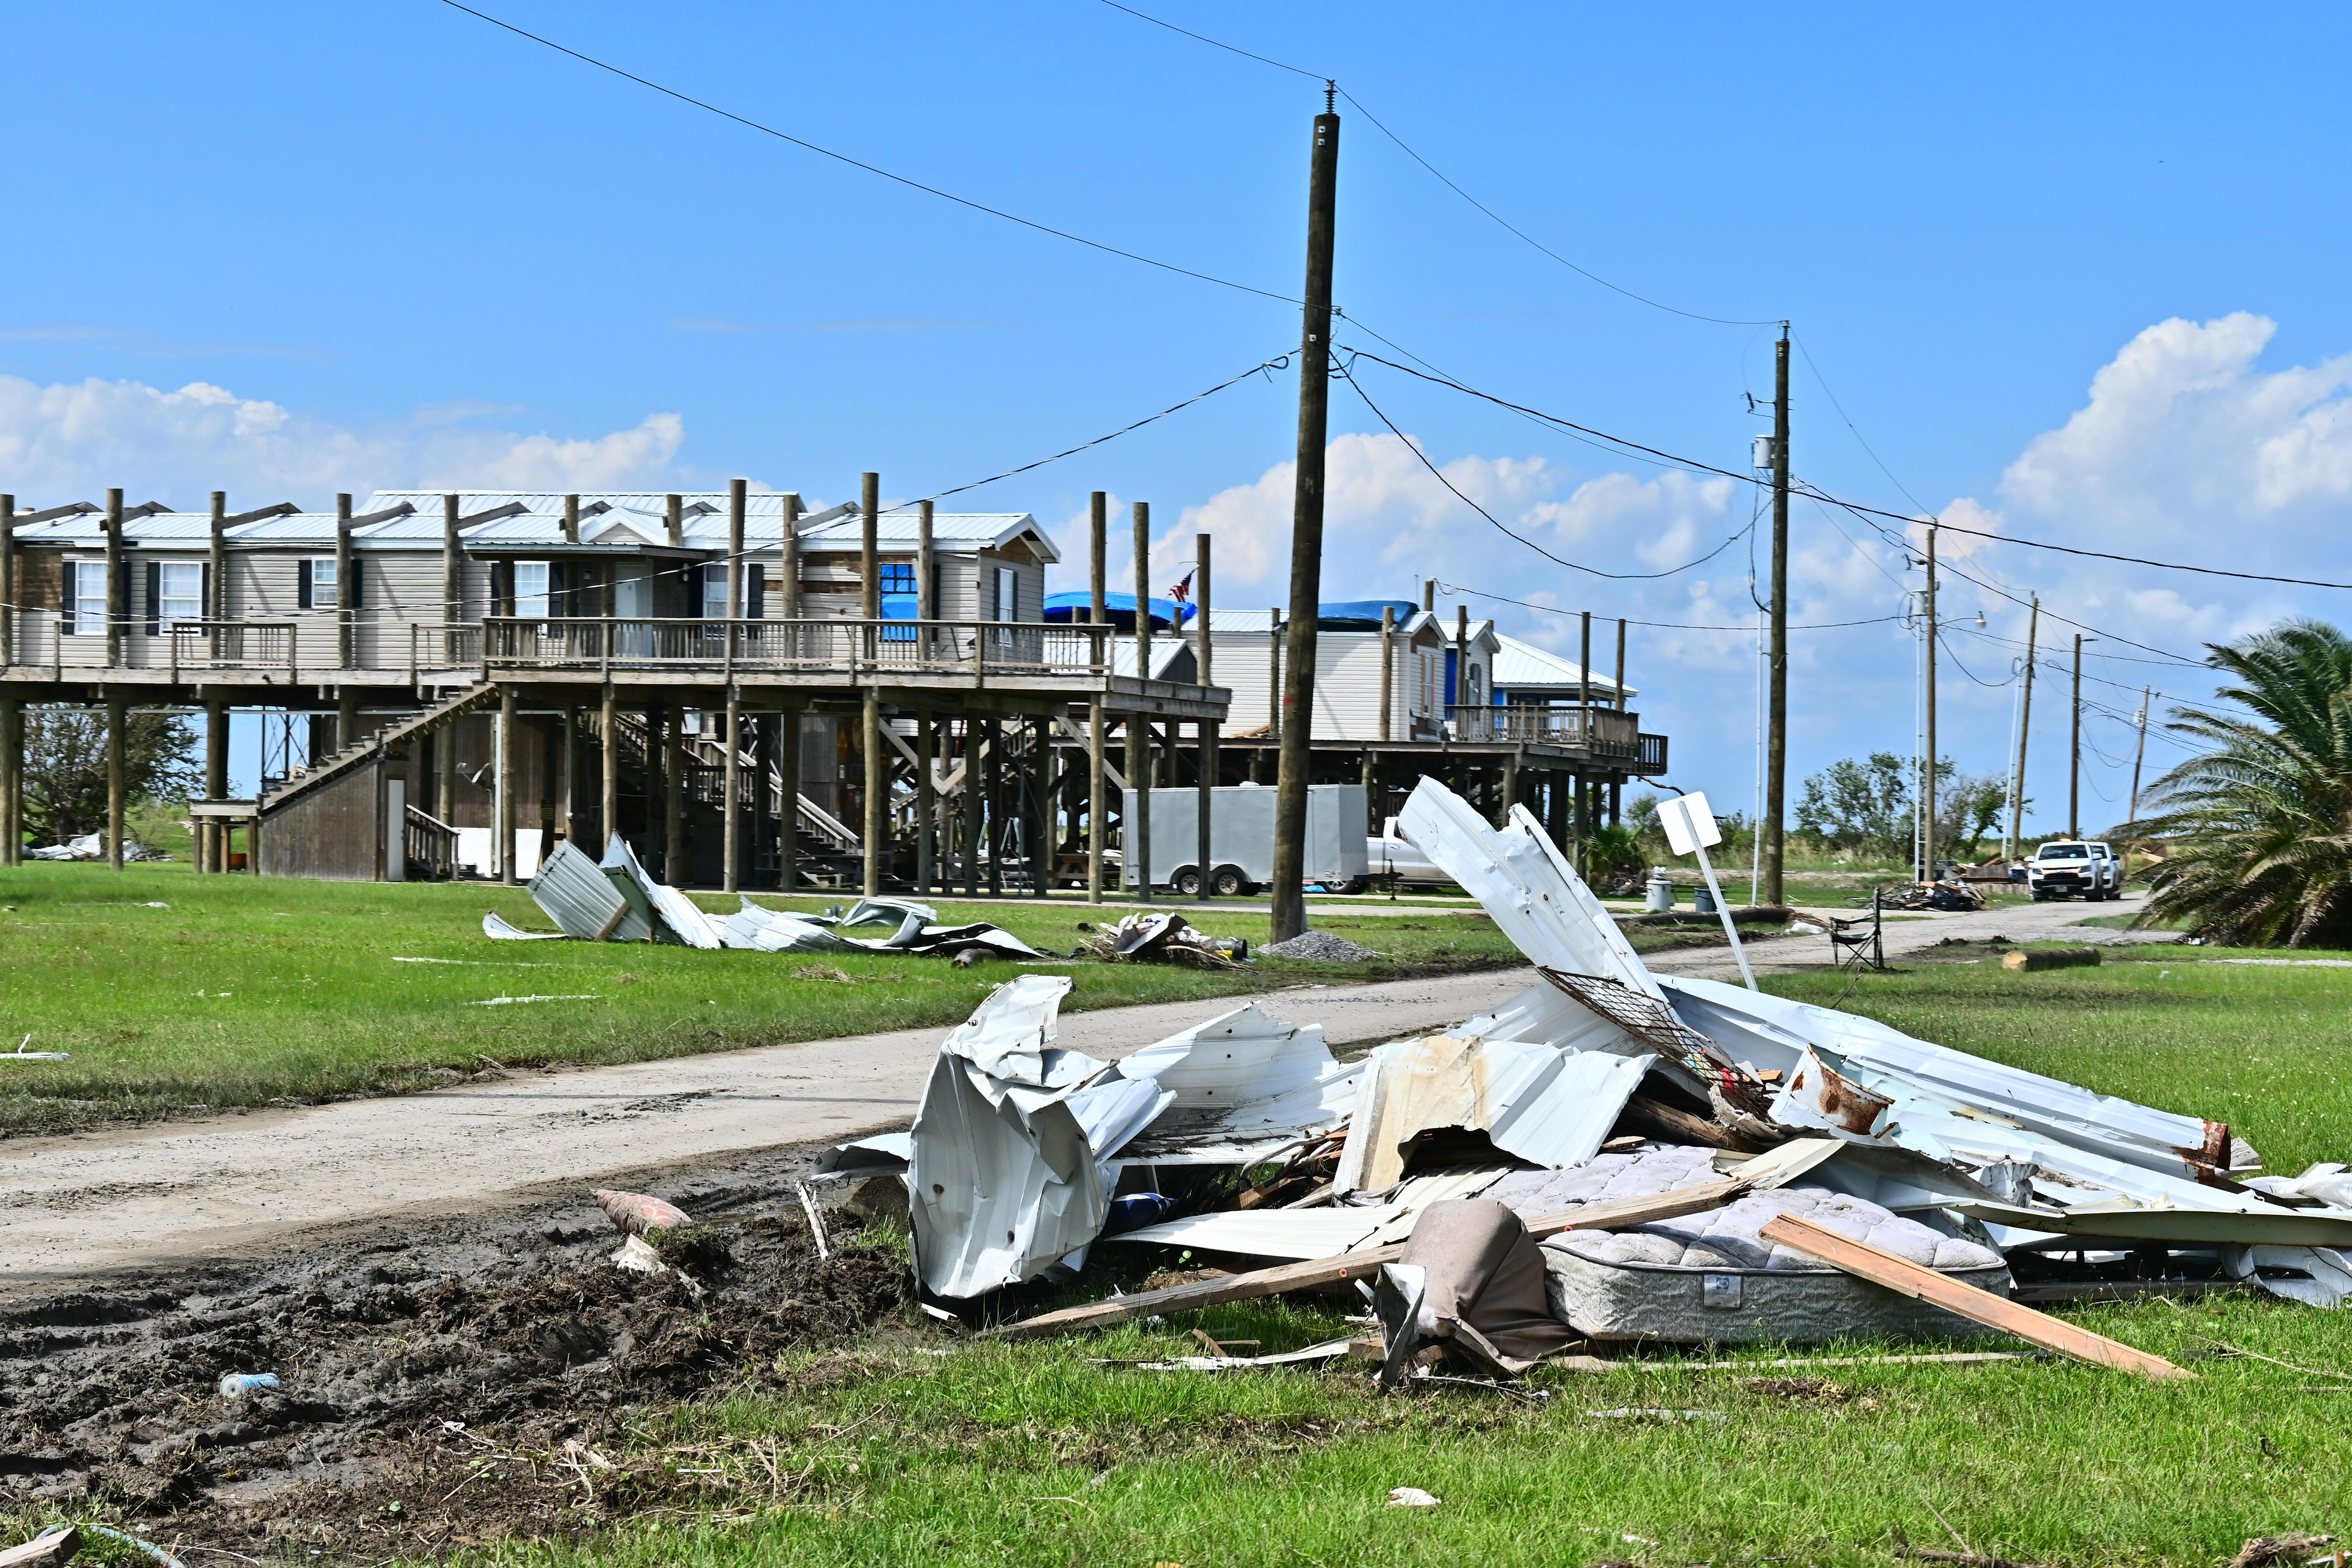minor: (0, 408, 1226, 888)
